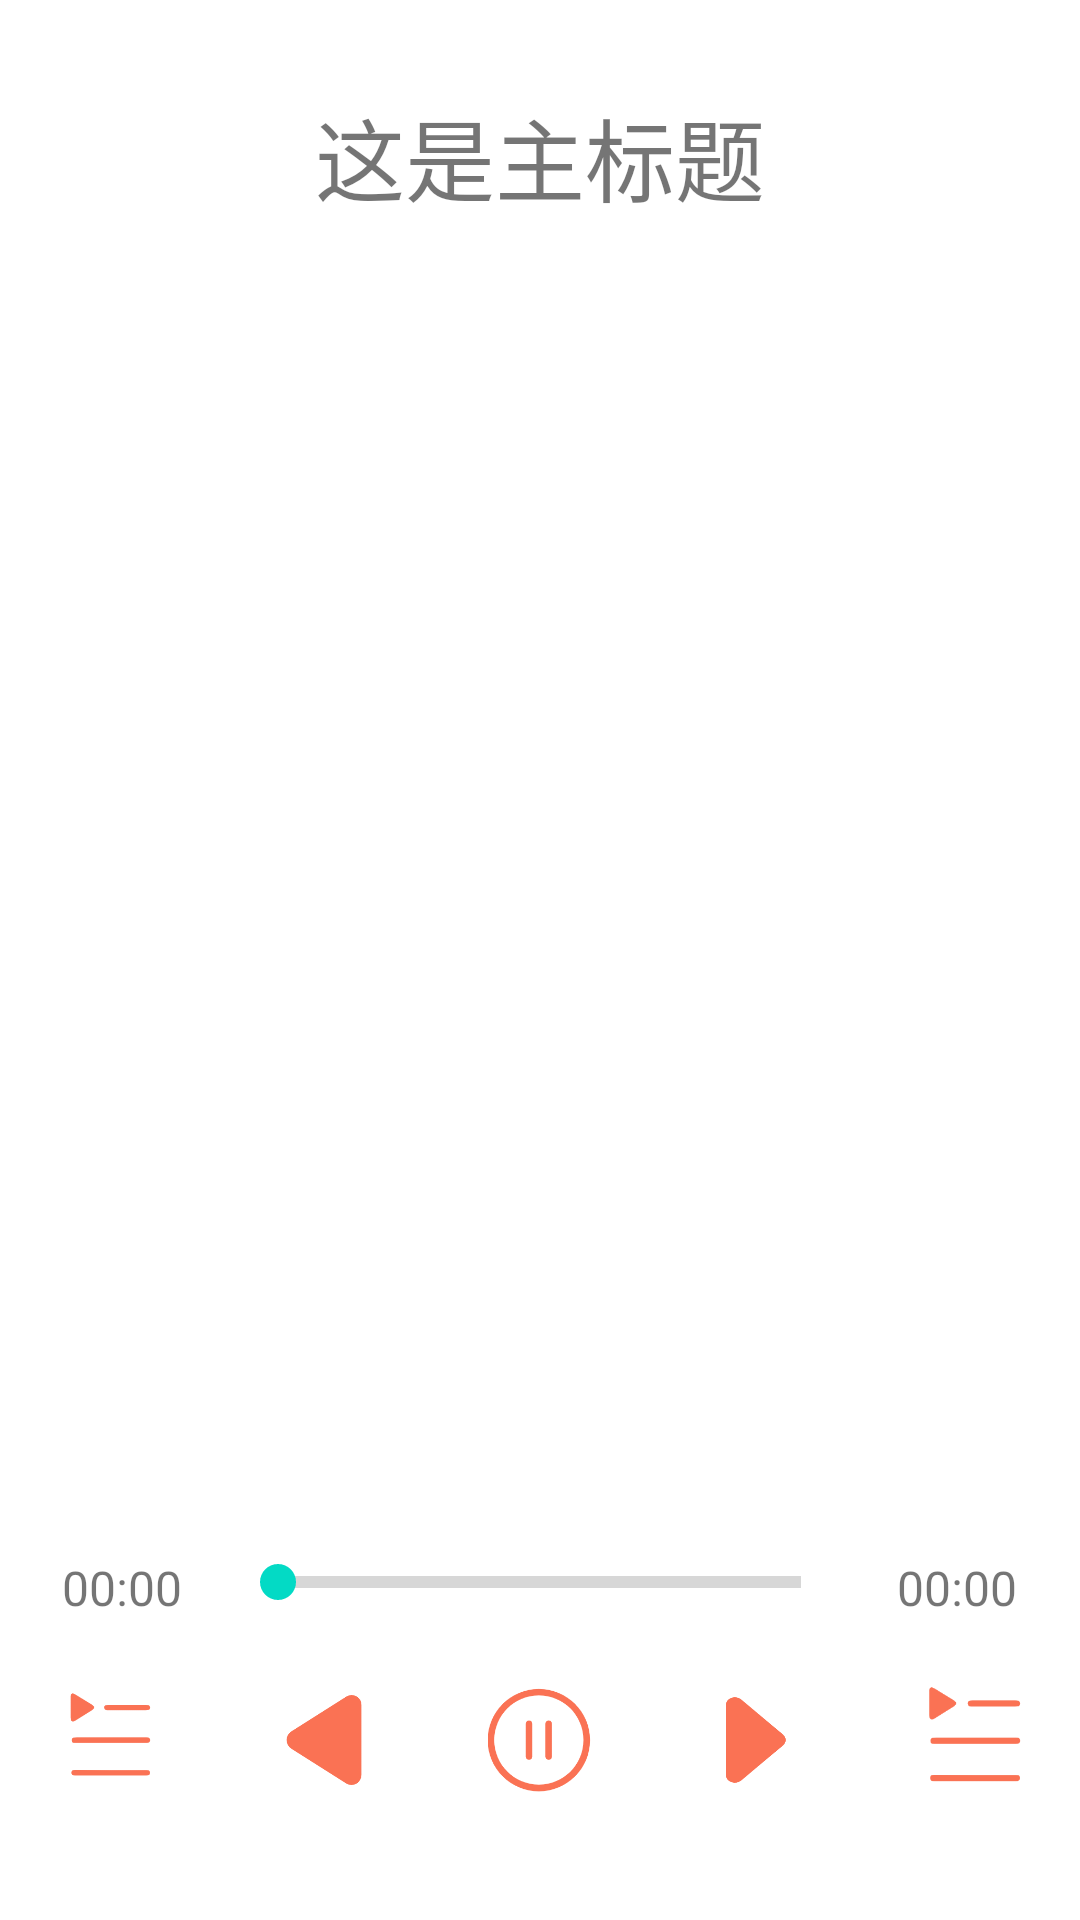

Icons on this 1080*1920 Android screen, each with its box as [x1, y1, x2, y2]:
play list: [929, 1687, 1020, 1782], [70, 1693, 150, 1776]
player next: [726, 1697, 786, 1783]
previous: [286, 1695, 362, 1785]
